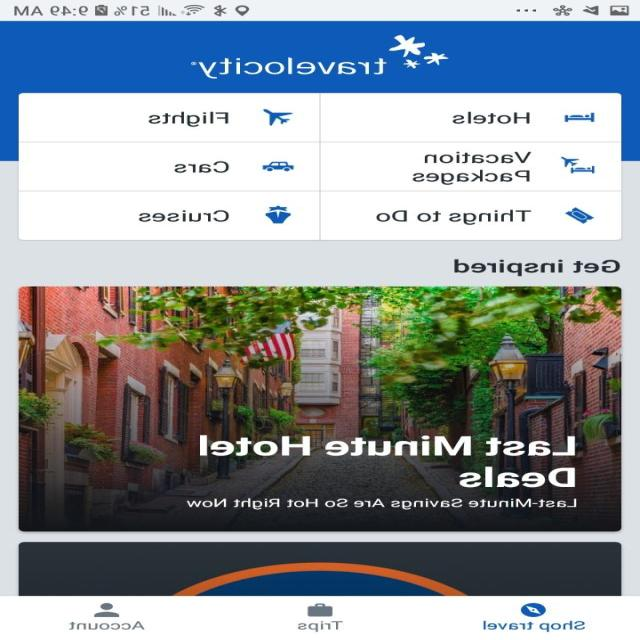Icon: (564, 207, 594, 224), (94, 602, 120, 617), (521, 602, 547, 617), (307, 603, 333, 616)
Image: (20, 286, 622, 531), (20, 542, 622, 596), (388, 34, 450, 69), (560, 156, 596, 174), (263, 109, 294, 126), (266, 205, 292, 224), (262, 161, 295, 171), (564, 112, 594, 123)
Text: (200, 434, 576, 488), (187, 498, 578, 510), (191, 57, 388, 79), (412, 151, 532, 185), (454, 258, 620, 276), (376, 209, 532, 225), (484, 619, 586, 632), (148, 111, 230, 127), (138, 209, 230, 222), (452, 111, 530, 124), (69, 620, 146, 630), (174, 160, 230, 173), (298, 620, 344, 632)
